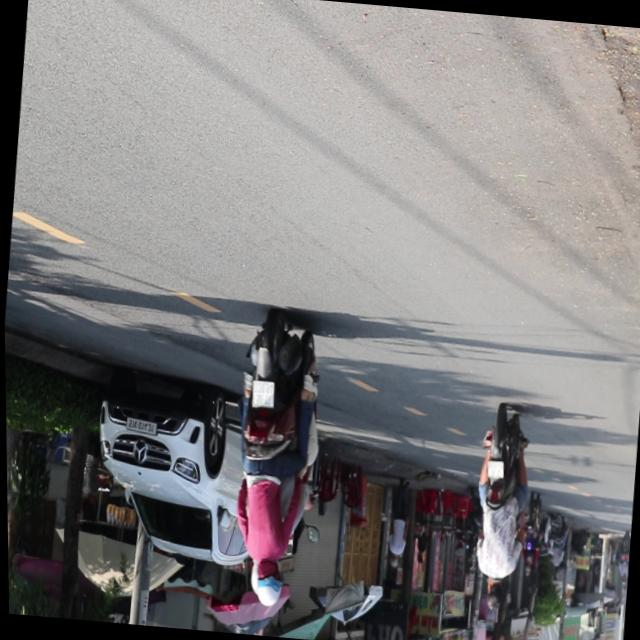helmet: (247, 556, 282, 608)
licenseplate: (215, 307, 329, 614), (460, 403, 534, 615)
motorcyclist: (480, 576, 501, 612)
nohelmet: (248, 380, 273, 408), (483, 460, 502, 479)
